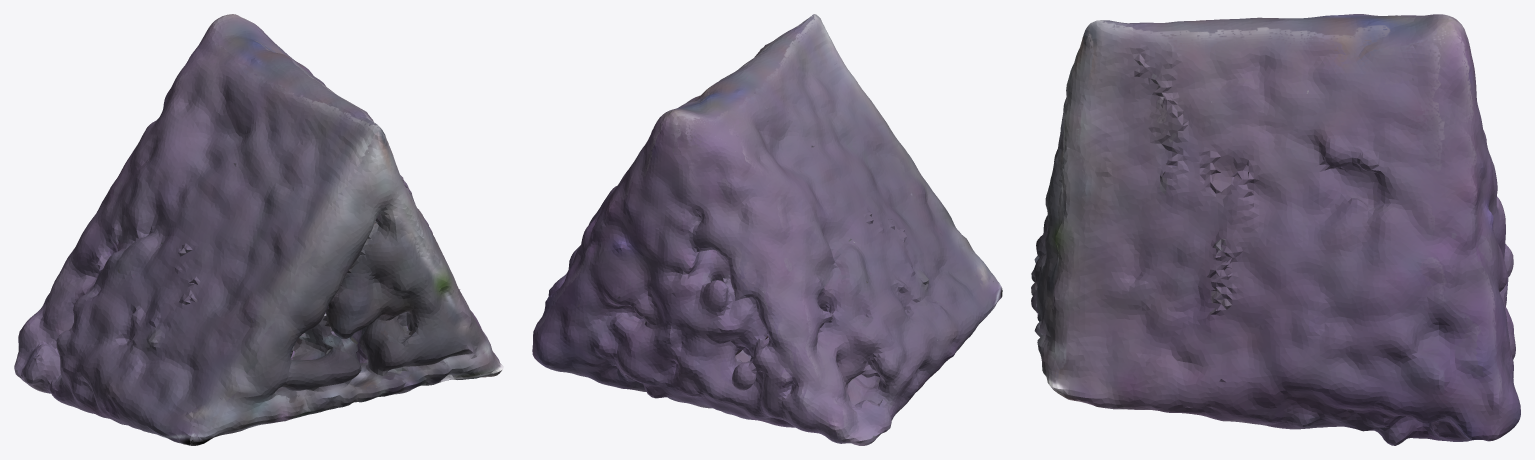
File: set_square_DG_mesh.glb
3 renders of one model, left to right at view 1: azimuth 30°, elevation 25°; view 2: azimuth 150°, elevation 25°; view 3: azimuth 270°, elevation 25°, orthographic. The views are drawn at different scales.
Bounding box in the file's own units: 1.34 × 1.14 × 1.32.
Materials: 1 (1 with a texture image).
